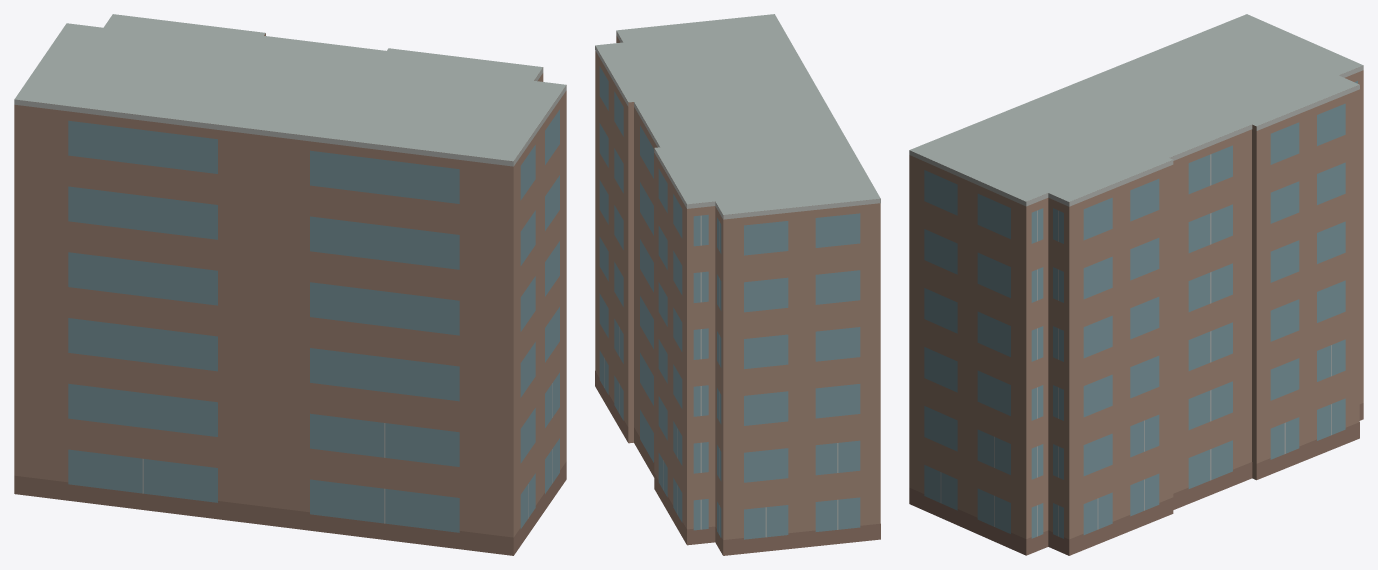
Rendered from survey-upis-32910508.glb.
The picture shows the model from 3 angles, left to right: view 1: azimuth 30°, elevation 25°; view 2: azimuth 150°, elevation 25°; view 3: azimuth 270°, elevation 25°; orthographic projection. The views are drawn at different scales.
Visible parts, largest first — view 1: survey-upis-32910508.tmp; view 2: survey-upis-32910508.tmp; view 3: survey-upis-32910508.tmp.
Boxes of the visible parts, x1,y1,x2,y2 form: survey-upis-32910508.tmp: (14, 14, 566, 555); survey-upis-32910508.tmp: (595, 14, 880, 555); survey-upis-32910508.tmp: (909, 14, 1363, 555).
Bounding box in the file's own units: 20.87 × 18.3 × 21.31.
